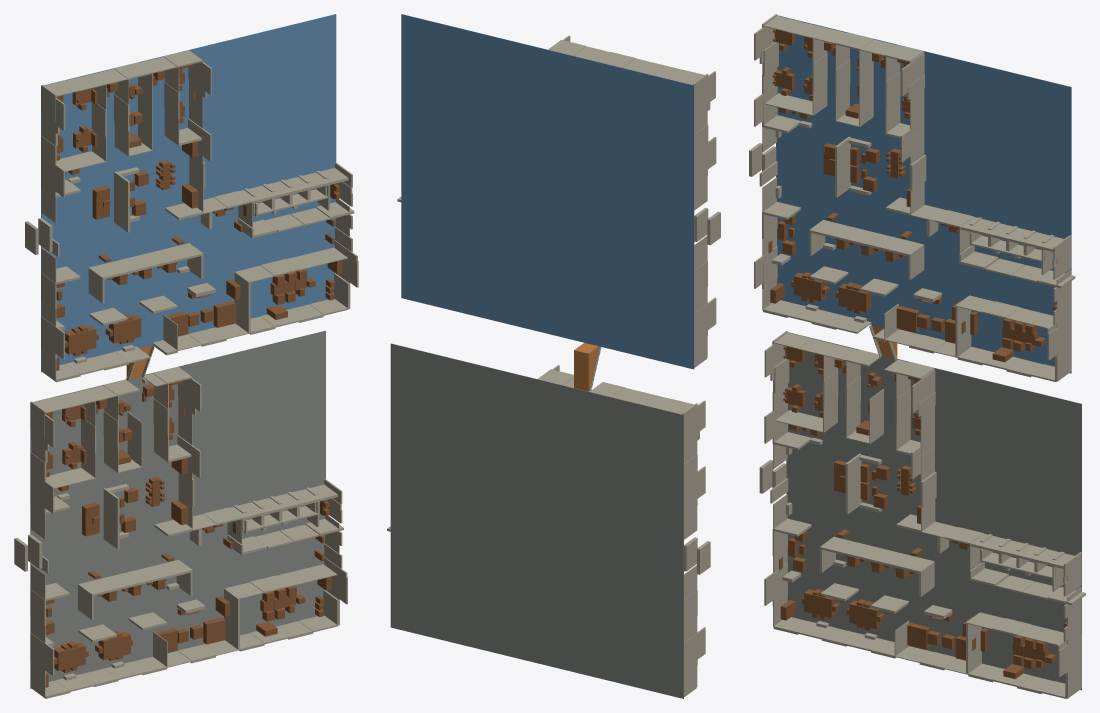
Rendered from unity_office_gazebo.obj.
3 views of the same model, side by side, from view 1: azimuth 30°, elevation 25°; view 2: azimuth 150°, elevation 25°; view 3: azimuth 330°, elevation 25° (orthographic).
Visible parts, largest first — view 1: office_floor, floor2_office_floor, office_wall_0284_sealed, floor2_office_furniture_0181, office_furniture_0181, floor2_office_wall_0284_sealed, floor2_office_furniture_0180, office_furniture_0180, office_wall_0287_sealed, office_wall_0286_sealed, floor2_office_wall_0286_sealed, floor2_office_wall_0287_sealed (+2 smaller); view 2: office_floor, floor2_office_floor, floor2_office_wall_0284_sealed, office_wall_0284_sealed, floor2_office_wall_0287_sealed; view 3: office_floor, floor2_office_floor, floor2_office_wall_0285_sealed, floor2_office_furniture_0180, office_wall_0285_sealed, floor2_office_furniture_0181, office_furniture_0180, office_furniture_0181, office_wall_0286_sealed, floor2_office_wall_0286_sealed, floor2_office_furniture_0226.
Part boxes in pixels (bbox=[...]): office_floor: bbox=[30, 330, 325, 688]; floor2_office_floor: bbox=[41, 14, 336, 372]; office_wall_0284_sealed: bbox=[30, 633, 54, 675]; floor2_office_furniture_0181: bbox=[65, 326, 96, 354]; office_furniture_0181: bbox=[54, 642, 85, 670]; floor2_office_wall_0284_sealed: bbox=[41, 316, 64, 359]; floor2_office_furniture_0180: bbox=[109, 314, 141, 343]; office_furniture_0180: bbox=[98, 631, 130, 660]; office_wall_0287_sealed: bbox=[30, 479, 54, 513]; office_wall_0286_sealed: bbox=[178, 378, 201, 411]; floor2_office_wall_0286_sealed: bbox=[188, 62, 211, 94]; floor2_office_wall_0287_sealed: bbox=[41, 163, 64, 197]; office_floor: bbox=[390, 343, 683, 698]; floor2_office_floor: bbox=[401, 14, 694, 369]; floor2_office_wall_0284_sealed: bbox=[694, 297, 716, 339]; office_wall_0284_sealed: bbox=[684, 627, 705, 669]; floor2_office_wall_0287_sealed: bbox=[694, 137, 716, 179]; office_floor: bbox=[786, 332, 1081, 690]; floor2_office_floor: bbox=[776, 15, 1071, 373]; floor2_office_wall_0285_sealed: bbox=[1047, 318, 1071, 360]; floor2_office_furniture_0180: bbox=[838, 283, 871, 312]; office_wall_0285_sealed: bbox=[1058, 635, 1081, 677]; floor2_office_furniture_0181: bbox=[793, 272, 825, 301]; office_furniture_0180: bbox=[849, 600, 881, 629]; office_furniture_0181: bbox=[804, 589, 836, 618]; office_wall_0286_sealed: bbox=[911, 371, 935, 413]; floor2_office_wall_0286_sealed: bbox=[901, 54, 924, 96]; floor2_office_furniture_0226: bbox=[896, 306, 919, 332].
Bounding box in the file's own units: 51.85 × 96.06 × 9.4.
